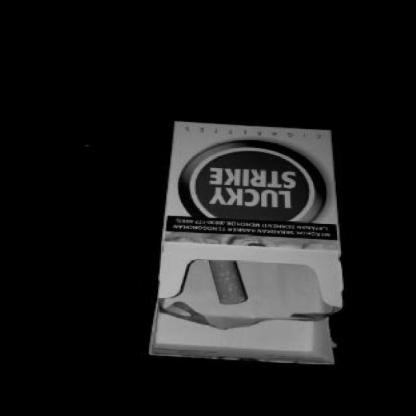objects: (152, 118, 342, 362)
